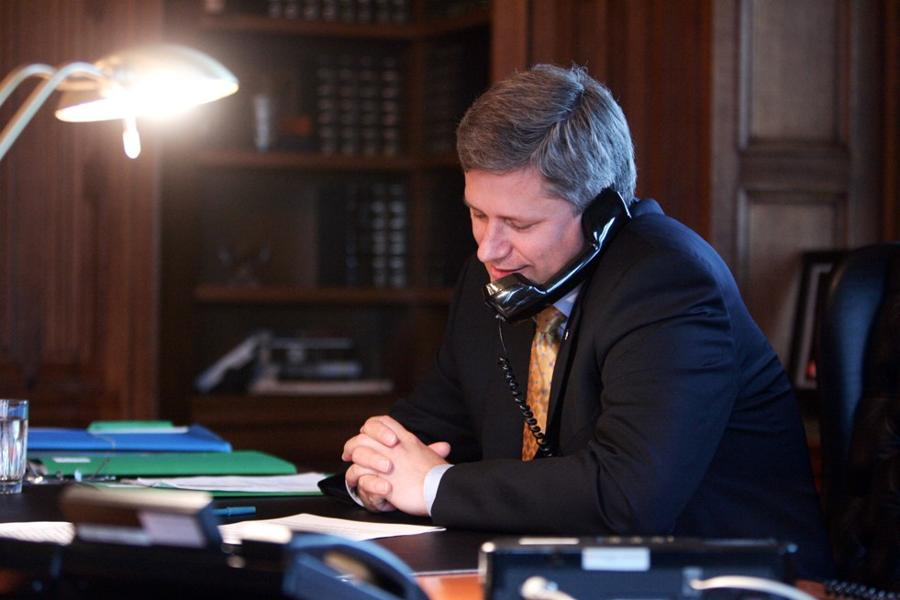person: (344, 60, 843, 564)
